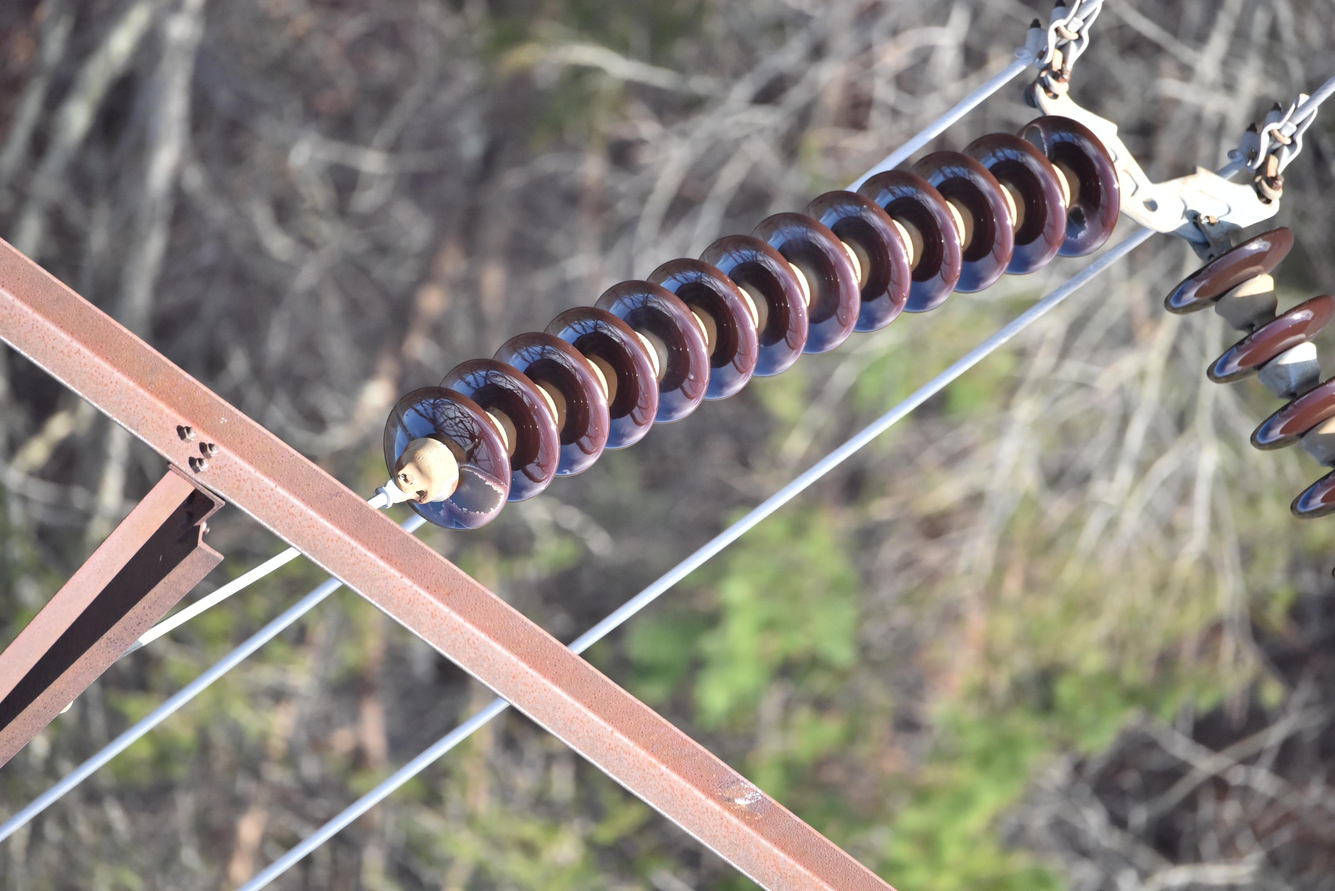Flashover: (440, 465, 505, 527), (1062, 201, 1099, 248), (1019, 122, 1054, 161)
insulator: (390, 114, 1120, 531), (1158, 225, 1335, 530)
